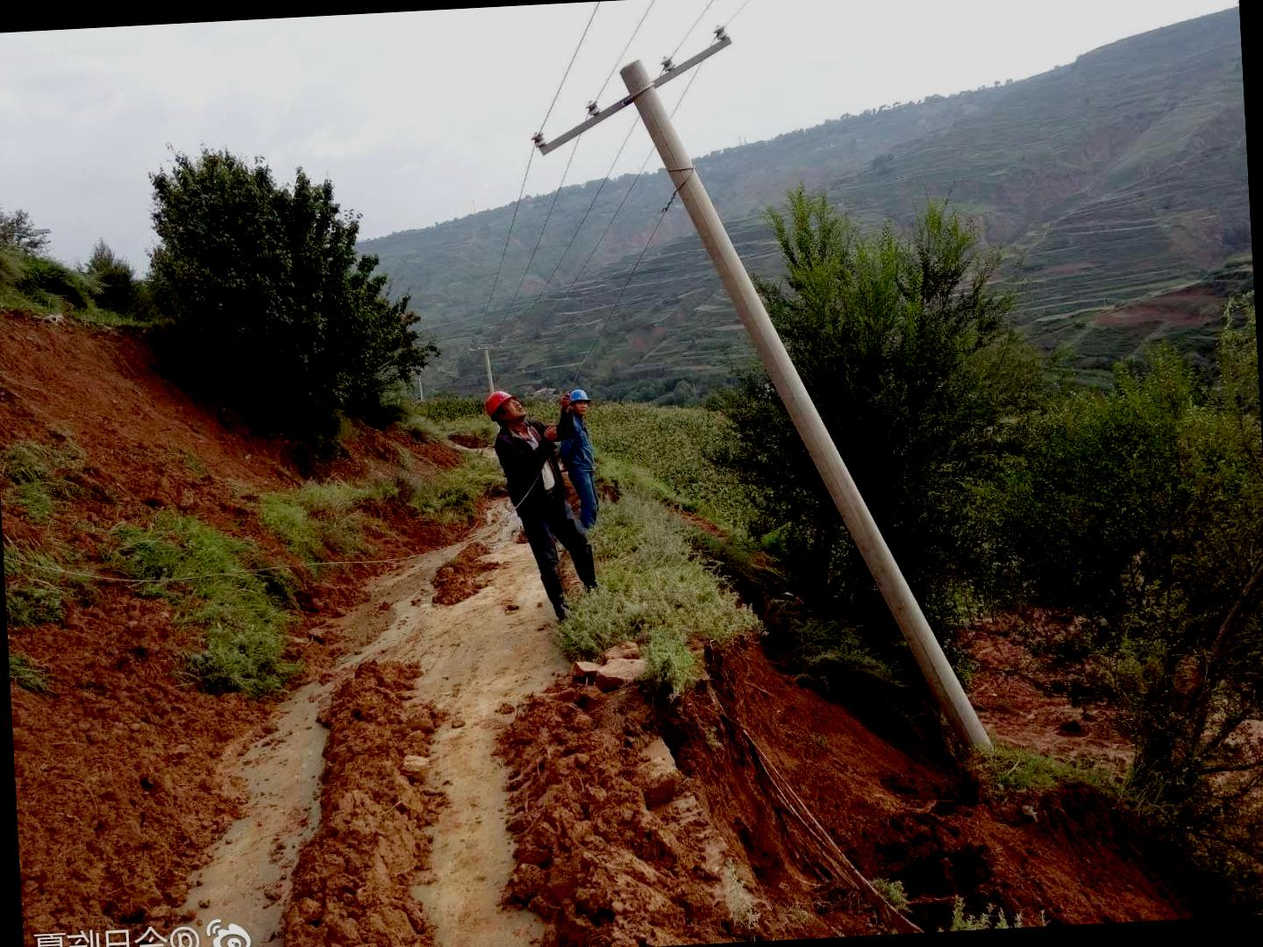person: (483, 379, 578, 621), (550, 382, 609, 541)
